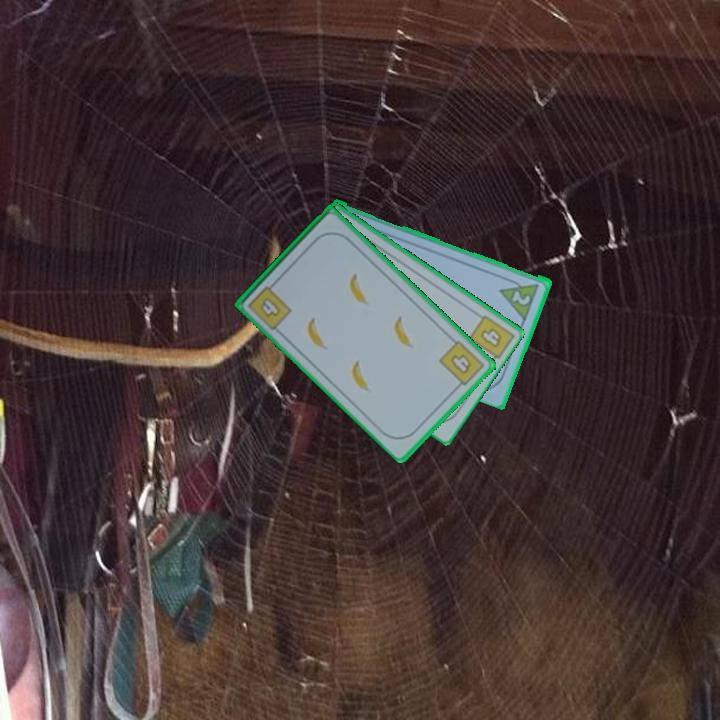2p: (509, 287, 534, 308)
4b: (435, 337, 487, 392), (244, 277, 295, 331), (477, 324, 505, 351)
